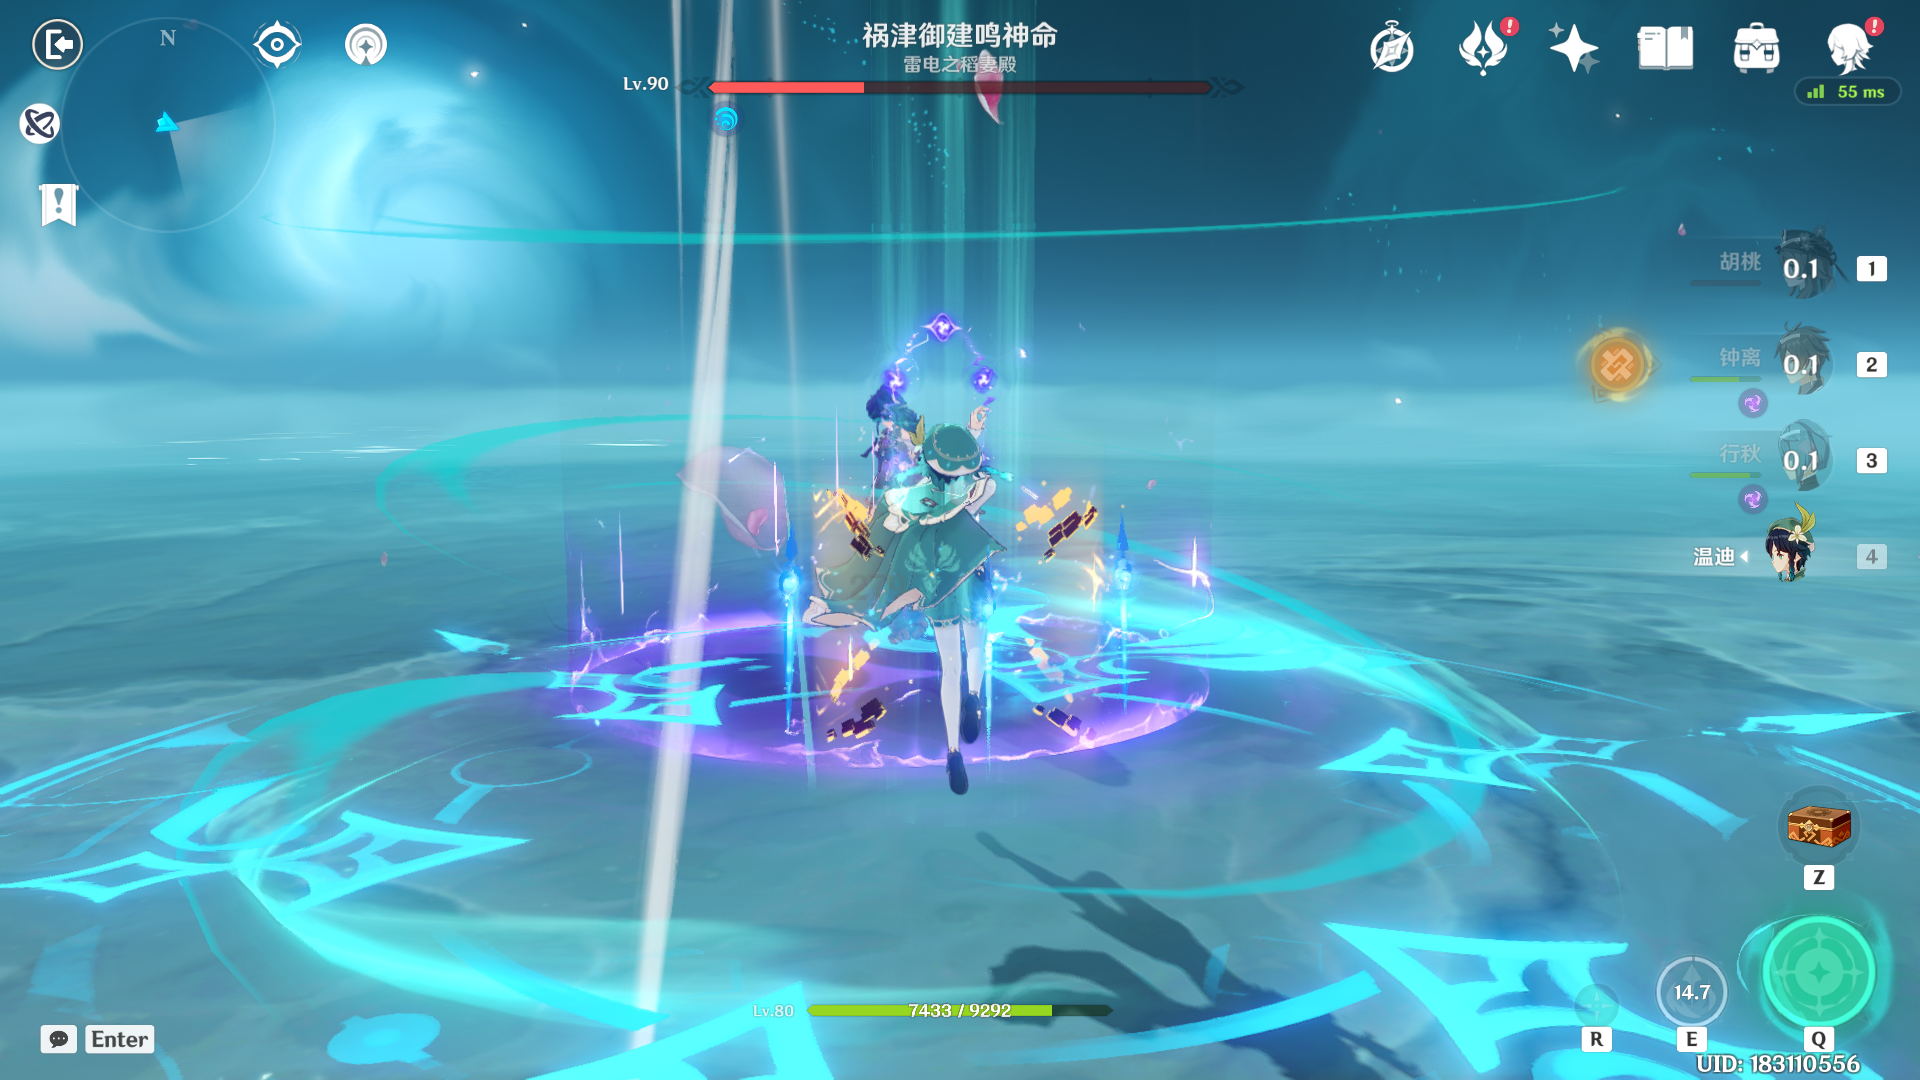character: (794, 357, 1068, 845)
